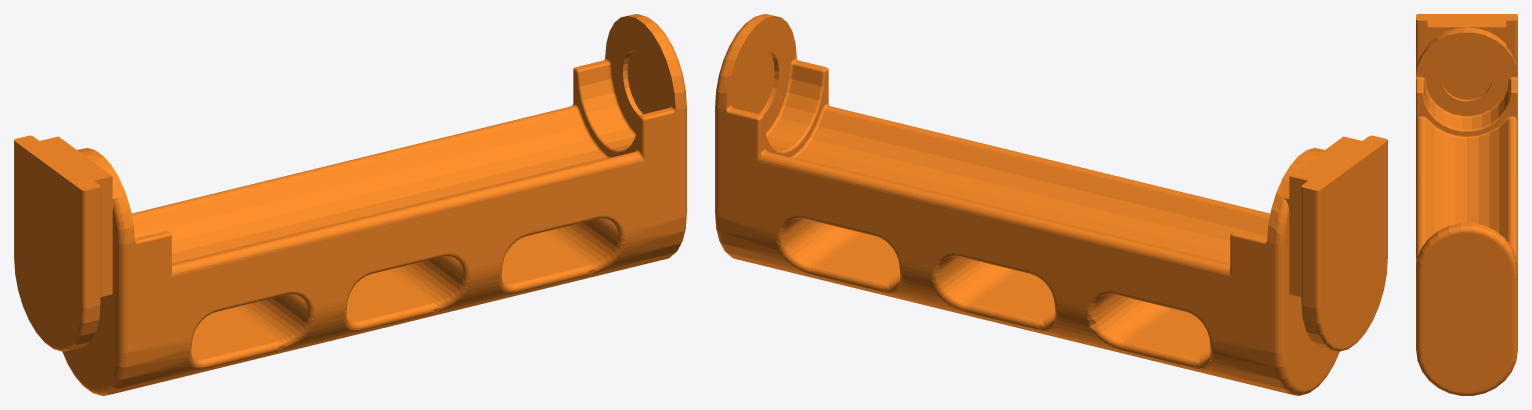
File: FillerBaseSource.dae
3 renders of one model, left to right at view 1: azimuth 30°, elevation 25°; view 2: azimuth 150°, elevation 25°; view 3: azimuth 270°, elevation 25°, orthographic. The views are drawn at different scales.
Visible parts, largest first — view 1: node0; view 2: node0; view 3: node0.
Part boxes in pixels (x1,y1,x2,y2): node0: (14, 14, 686, 395); node0: (715, 14, 1387, 395); node0: (1416, 14, 1517, 395).
Size of the model in its own units: 0.129 by 0.026 by 0.0479.
